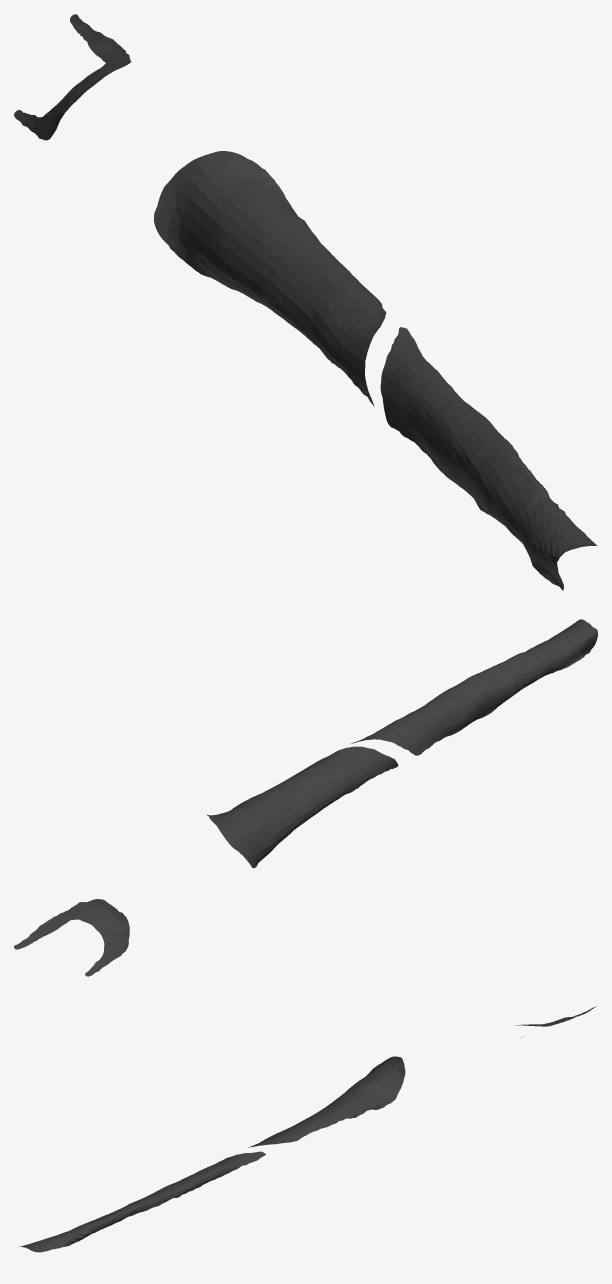
File: tend_SDF.glb
3 renders of one model, top to bottom at view 1: azimuth 30°, elevation 25°; view 2: azimuth 150°, elevation 25°; view 3: azimuth 330°, elevation 25°, orthographic. The views are drawn at different scales.
Parts seen in each view (by area): view 1: tend_SDF; view 2: tend_SDF; view 3: tend_SDF.
Boxes of the visible parts, x1,y1,x2,y2 form: tend_SDF: (14,14,596,590); tend_SDF: (14,619,597,976); tend_SDF: (19,1006,596,1252).
Bounding box in the file's own units: 0.1002 × 0.0457 × 0.4974.
Materials: 1 (1 with a texture image).
